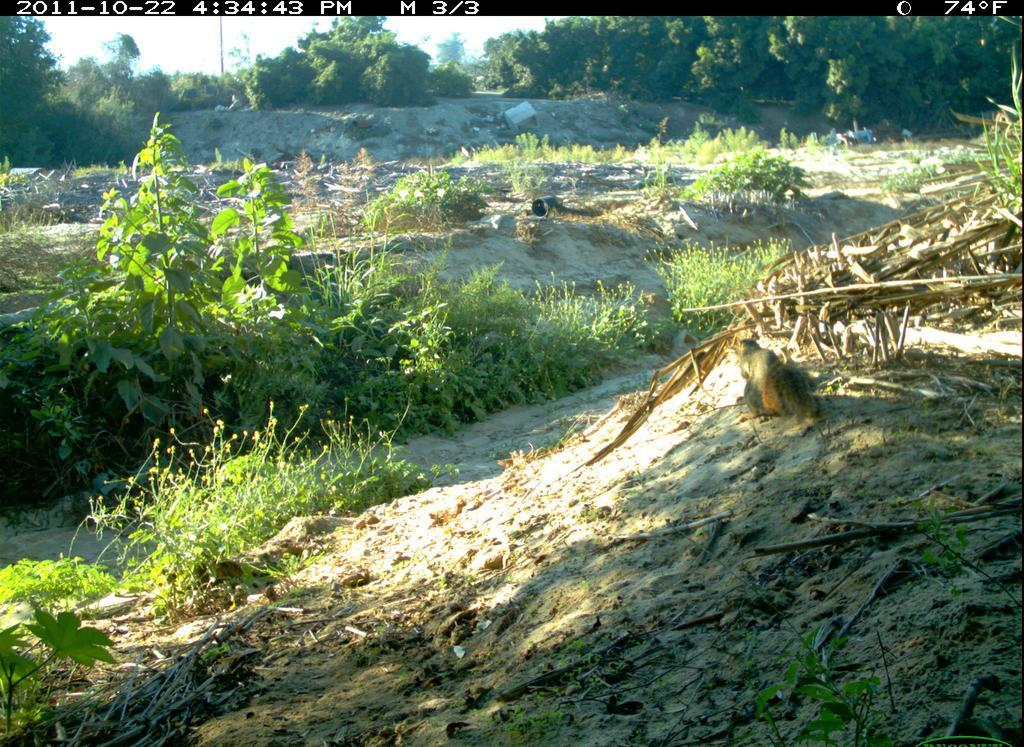squirrel: (724, 324, 835, 431)
